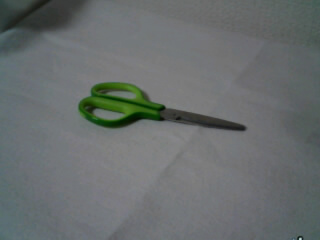003_classes: (71, 76, 252, 141)
